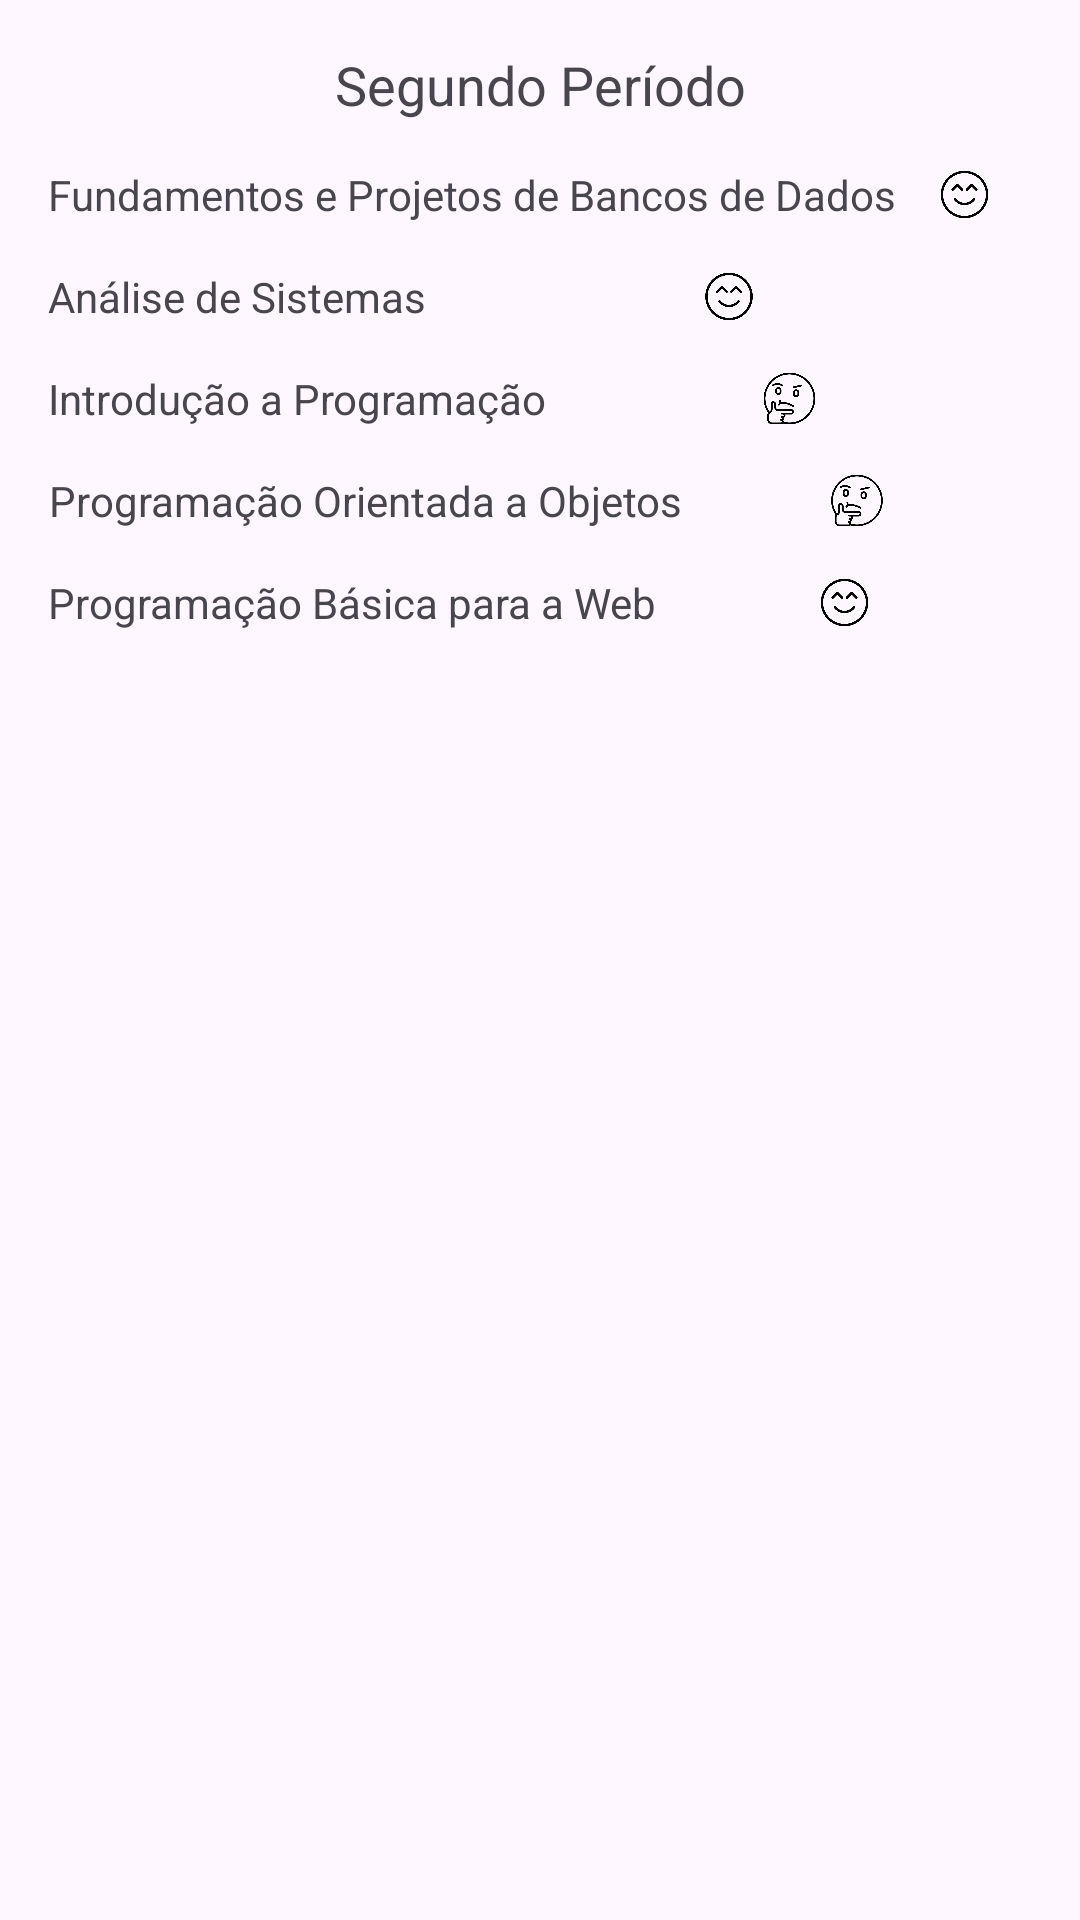

Icon click points for this 1080 × 1920 phone screenshot, format [x,y]:
smiling face with eyes: [964,194], [729,296], [844,602]
thinking face: [789,398], [857,500]
